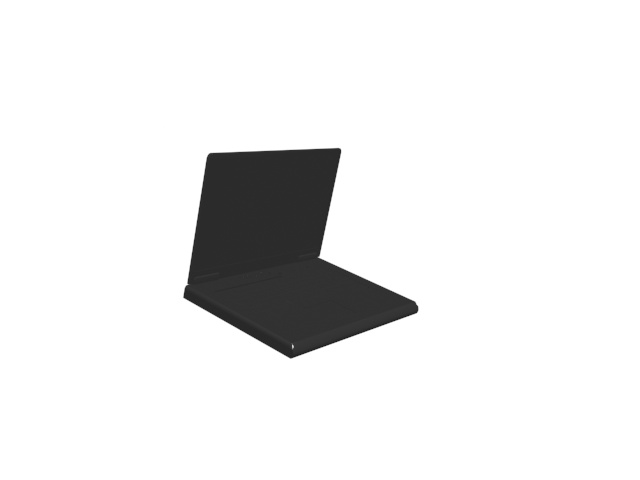laptop_computer: (177, 145, 424, 360)
